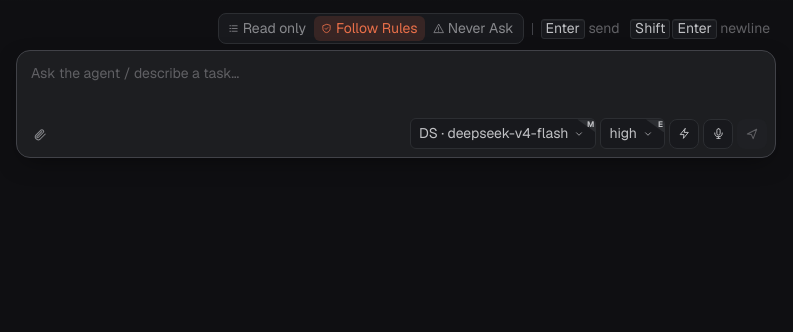
Scenario: Composer quick send dropdown › opens the dropdown without sending when clicked
Click the button named "Quick send": (684, 134) [669,119,699,149]
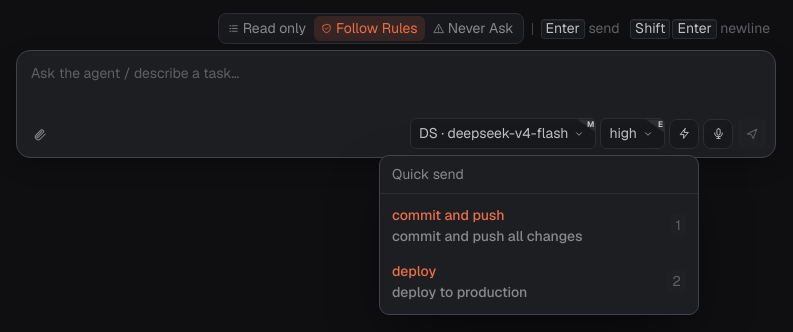
Result: the text "deploy" is shown at [392,262,436,280]
